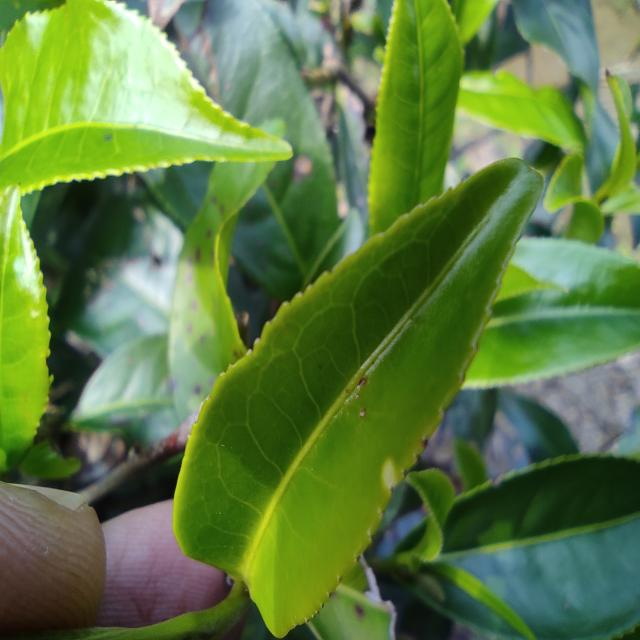Category B 2-4 days: (171, 151, 548, 639)
